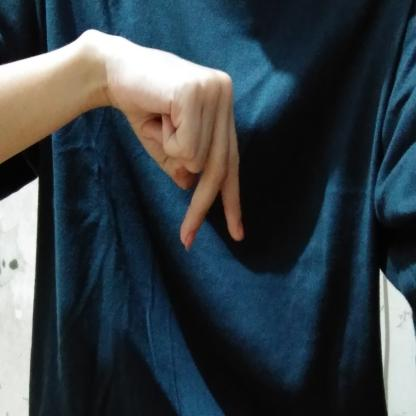run: (76, 29, 255, 255)
